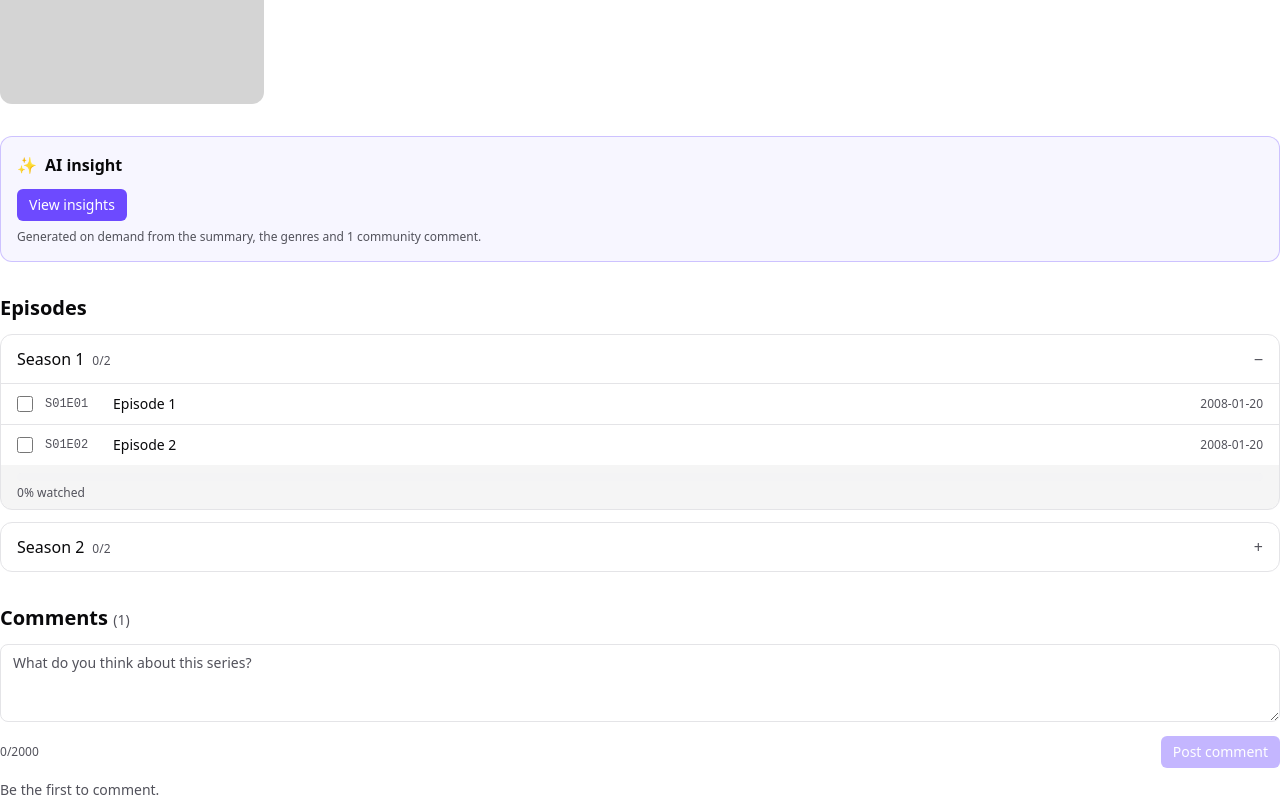
Test: SeriesPage › refreshes the comment list from the server after posting
The width and height of the screenshot is (1280, 800).
(page scrolled)
Type "My thought" into the text box named "your comment" at point(640, 683), box [0,644,1279,722]
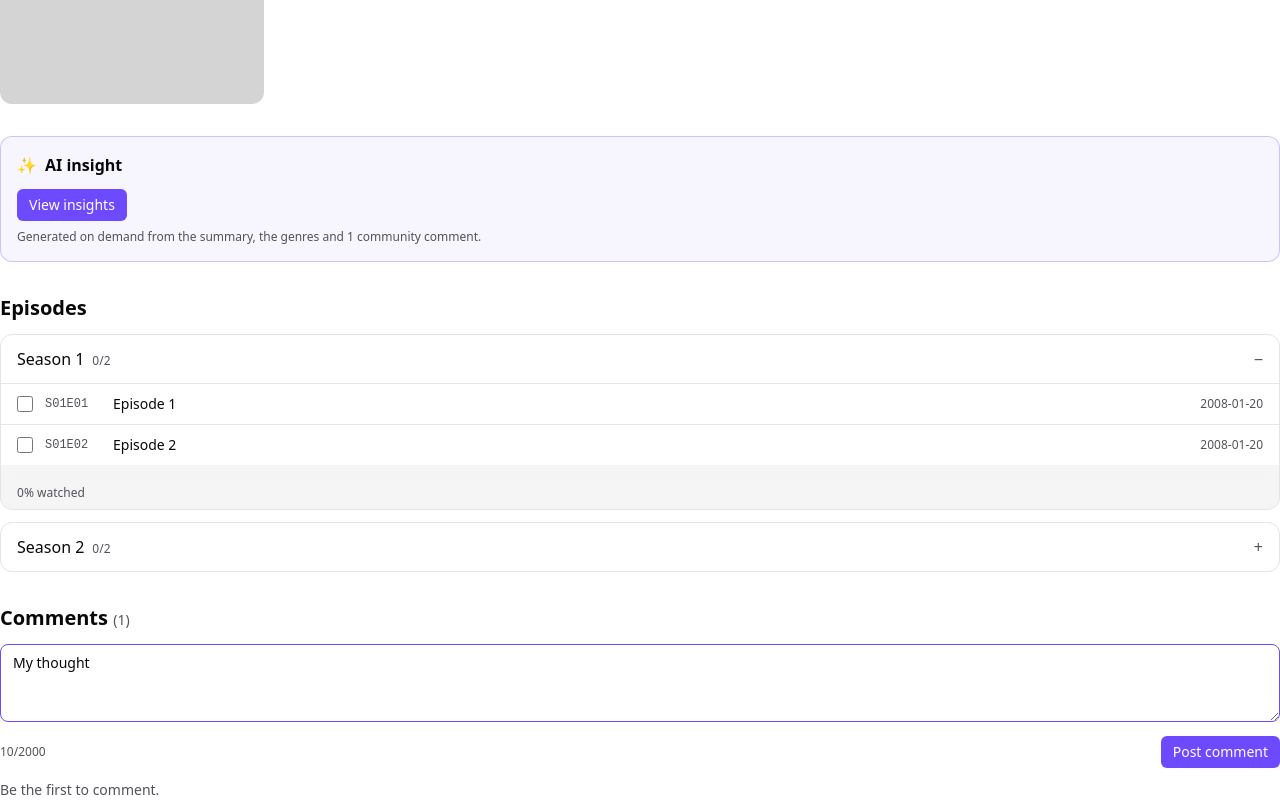
Click the button "Post comment" at point(1220, 752), box [1161,736,1279,768]
(page scrolled)
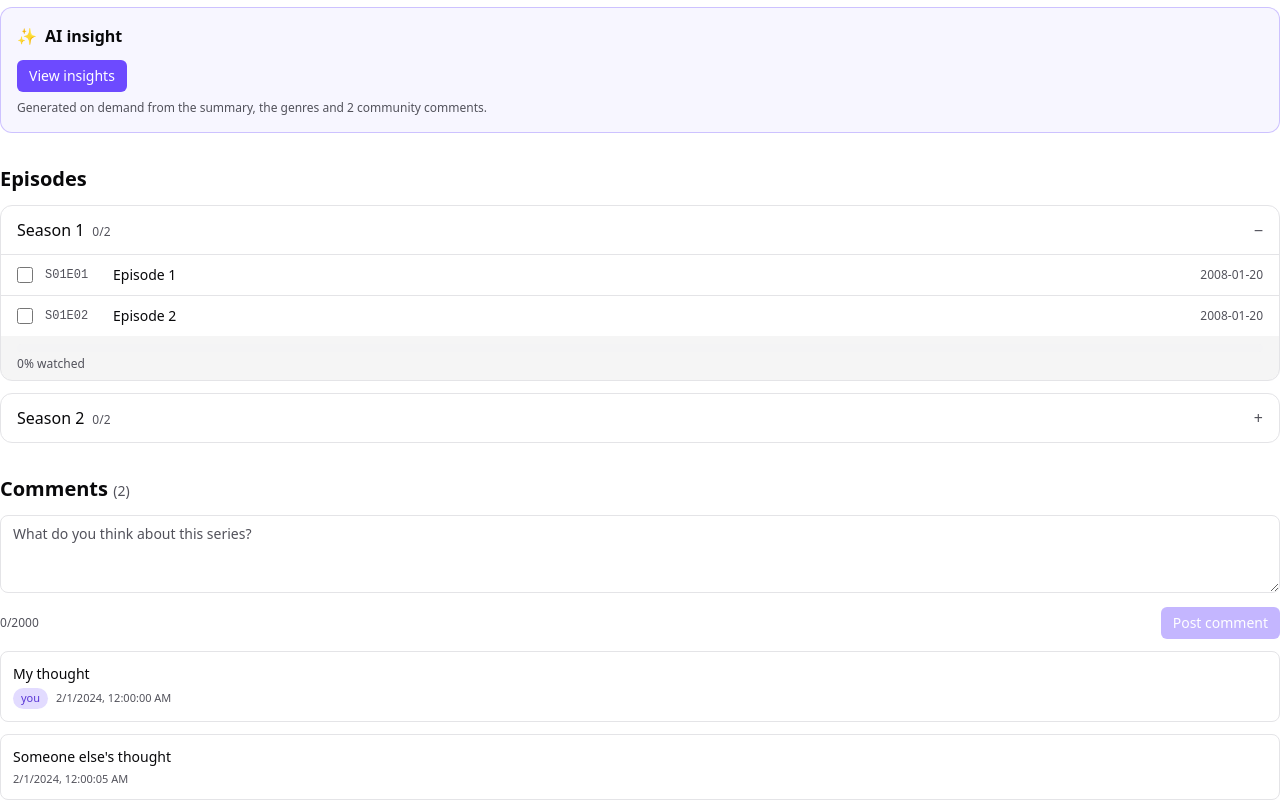
Expected: the text "My thought" is shown, [13,664,90,683]
Expected: the text "Someone else's thought" is shown, [13,746,171,766]
